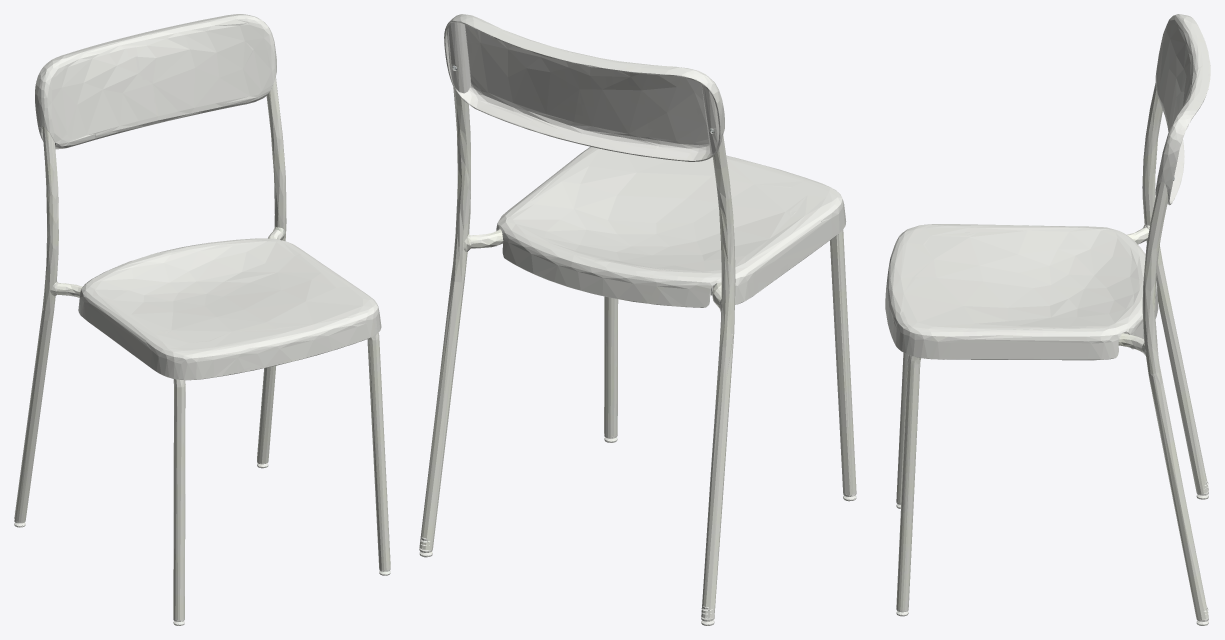
3 views of the same model, side by side, from view 1: azimuth 30°, elevation 25°; view 2: azimuth 150°, elevation 25°; view 3: azimuth 270°, elevation 25° (orthographic). The views are drawn at different scales.
Parts seen in each view (by area): view 1: ASY_ART_50569103_S01_NV01_NODE_ID_a0d7fe30-9a2c-460c-b9cd-84; view 2: ASY_ART_50569103_S01_NV01_NODE_ID_a0d7fe30-9a2c-460c-b9cd-84; view 3: ASY_ART_50569103_S01_NV01_NODE_ID_a0d7fe30-9a2c-460c-b9cd-84.
Part boxes in pixels (left/top/right/bottom): ASY_ART_50569103_S01_NV01_NODE_ID_a0d7fe30-9a2c-460c-b9cd-84: left=14, top=14, right=390, bottom=625; ASY_ART_50569103_S01_NV01_NODE_ID_a0d7fe30-9a2c-460c-b9cd-84: left=419, top=14, right=856, bottom=625; ASY_ART_50569103_S01_NV01_NODE_ID_a0d7fe30-9a2c-460c-b9cd-84: left=885, top=14, right=1210, bottom=625.
Size of the model in its own units: 0.45 by 0.79 by 0.47.
1 material, 1 textured.
